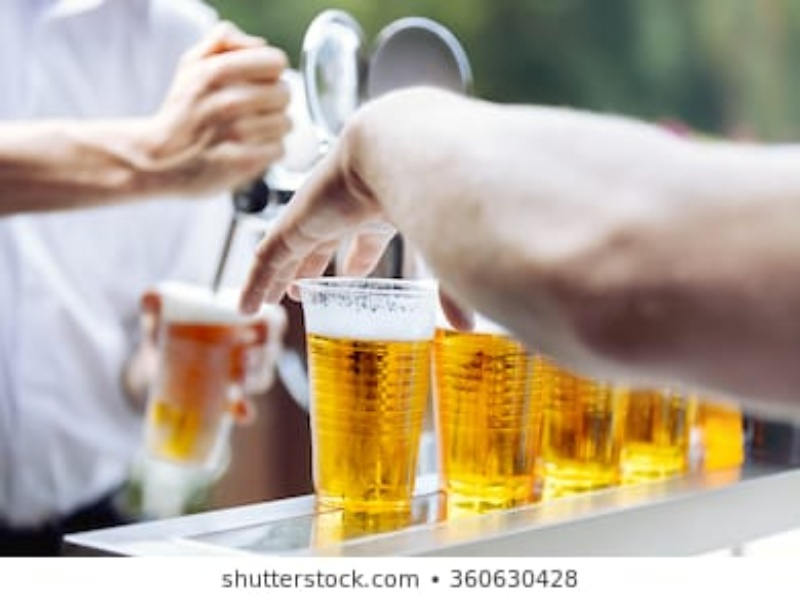plastic-cup: (296, 269, 443, 508), (433, 307, 559, 504), (537, 333, 625, 495)
